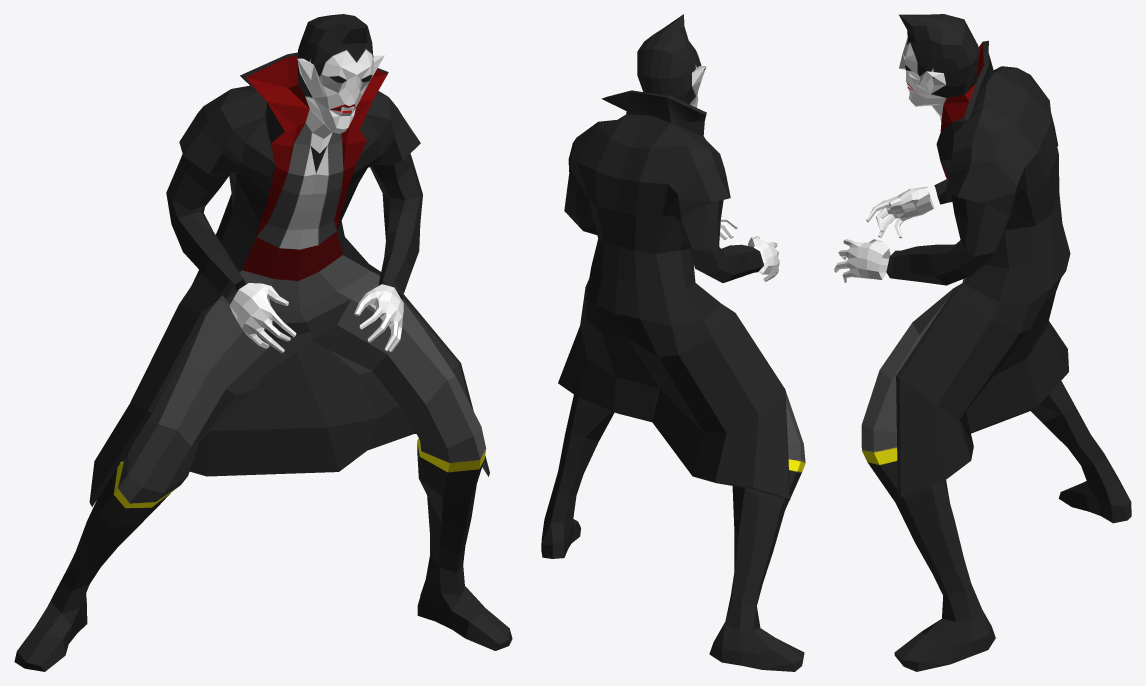
The model's file is VampireAttack(116).obj.
3 views of the same model, side by side, from view 1: azimuth 30°, elevation 25°; view 2: azimuth 150°, elevation 25°; view 3: azimuth 270°, elevation 25° (orthographic). The views are drawn at different scales.
Visible parts, largest first — view 1: Plane002; view 2: Plane002; view 3: Plane002.
Part boxes in pixels (x1=…): Plane002: x1=14, y1=14, x2=512, y2=671; Plane002: x1=541, y1=14, x2=805, y2=671; Plane002: x1=834, y1=14, x2=1131, y2=671.
Bounding box in the file's own units: 189 × 298 × 136.
